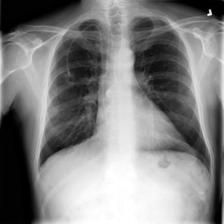normal: (35, 9, 214, 182)
